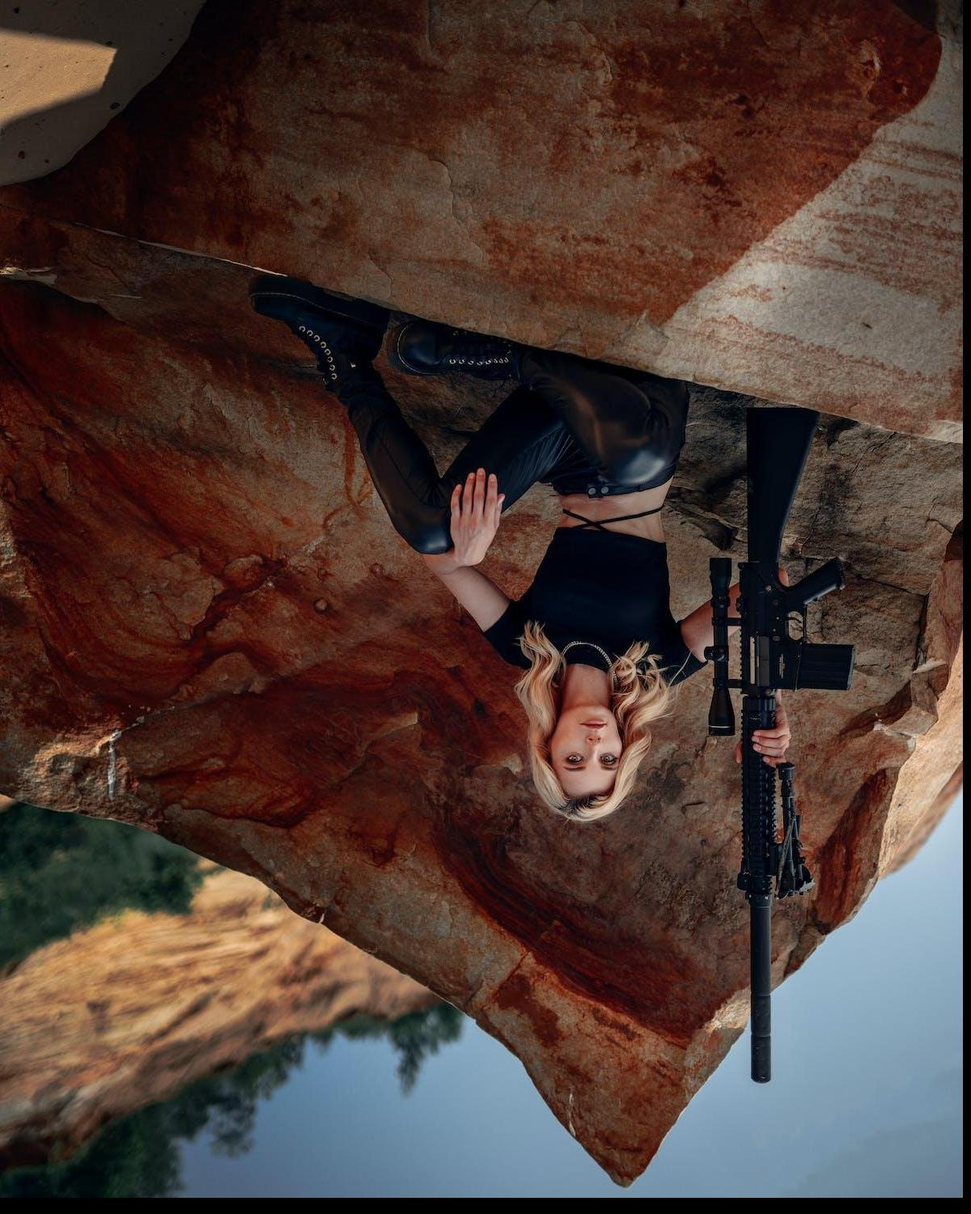larga: (707, 406, 859, 1084)
